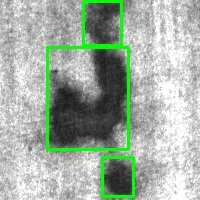patches: (47, 47, 128, 149), (83, 1, 121, 45), (102, 157, 133, 196)
